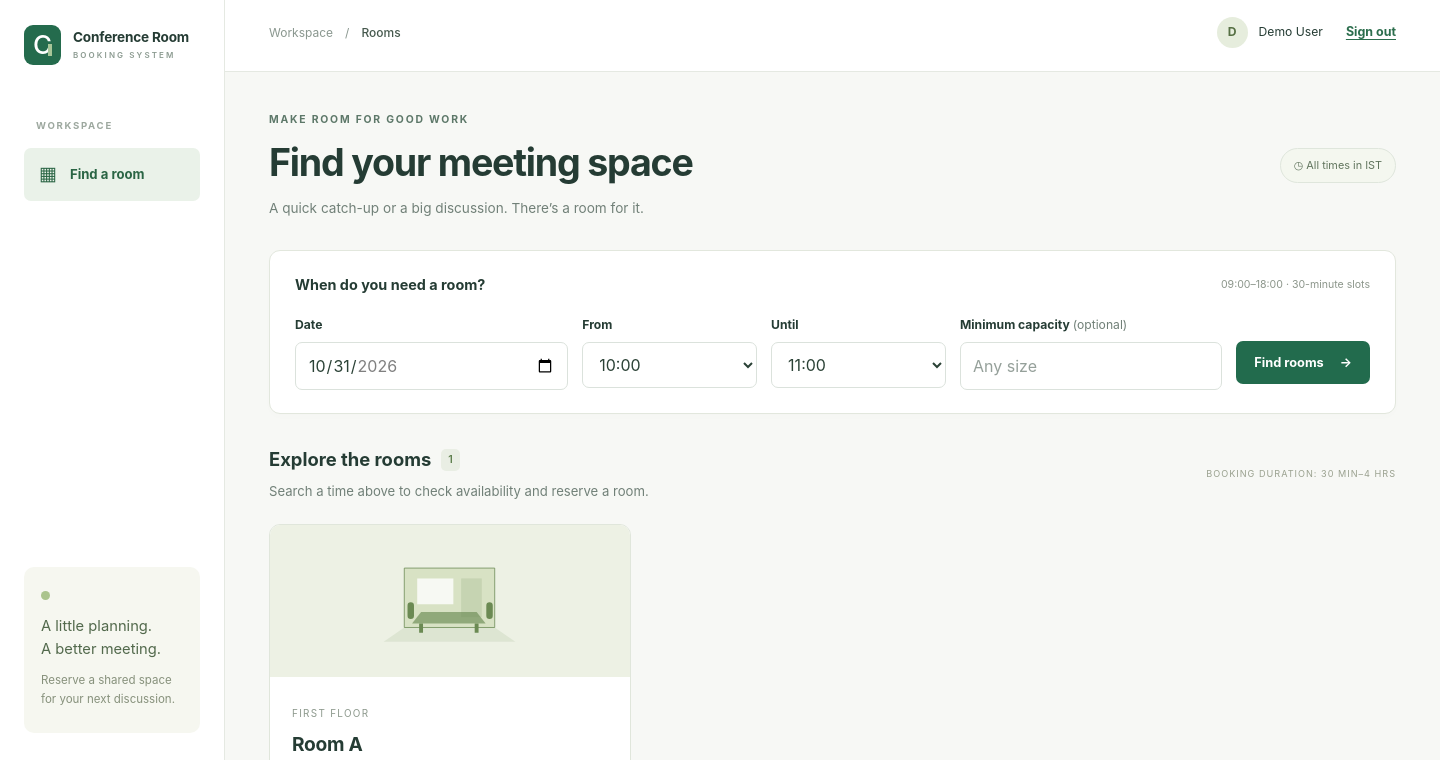
it: TC01 / TC02 room listing and search › invalidates availability and selection when search criteria change
The width and height of the screenshot is (1440, 760).
Expected: the heading "Room A" is shown, [292,732,362,756]
Click the button "Find rooms →" at (1303, 362), box [1236,341,1370,384]
(page scrolled)
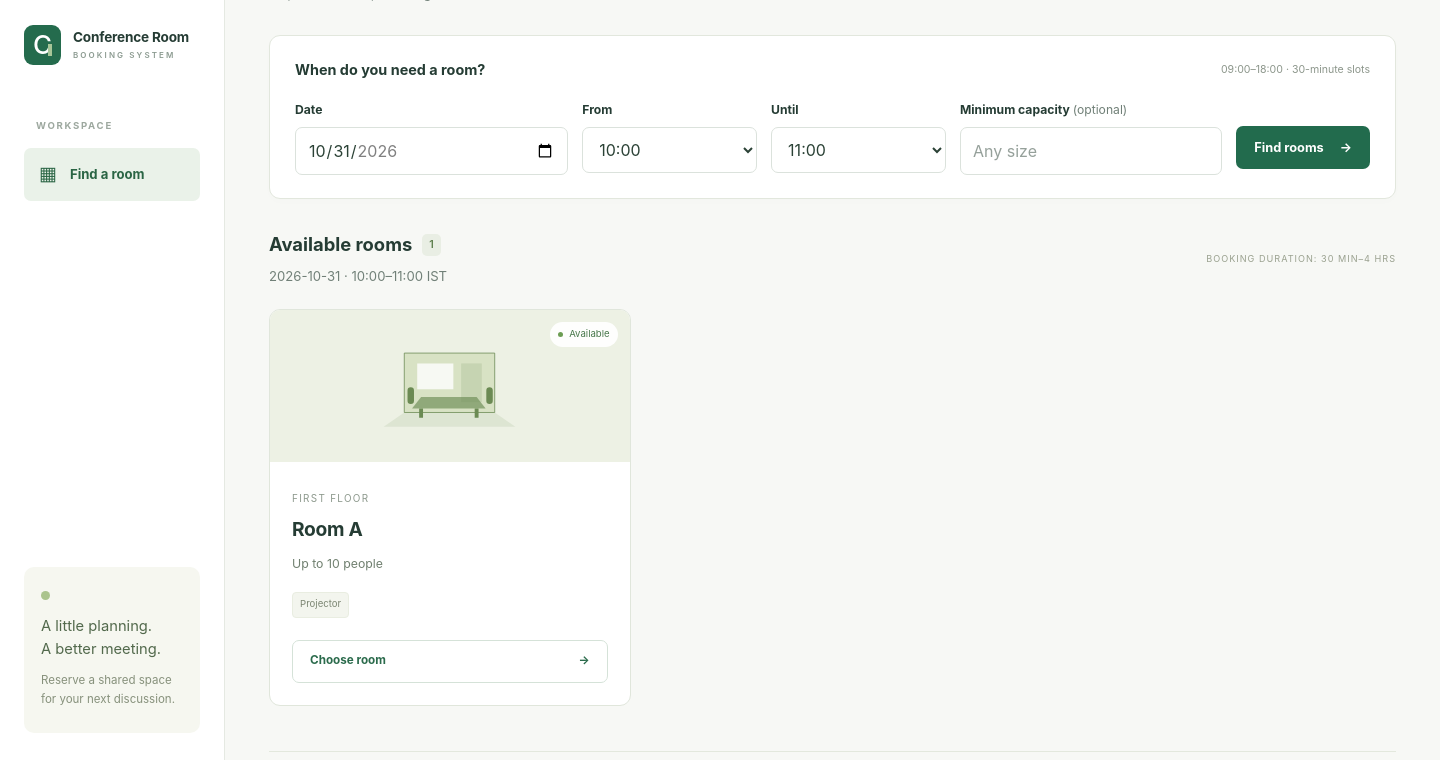
Now the heading "Available rooms 1" is shown, box [269,231,447,259]
Click the button "Choose room →" at (348, 660), box [292,640,608,682]
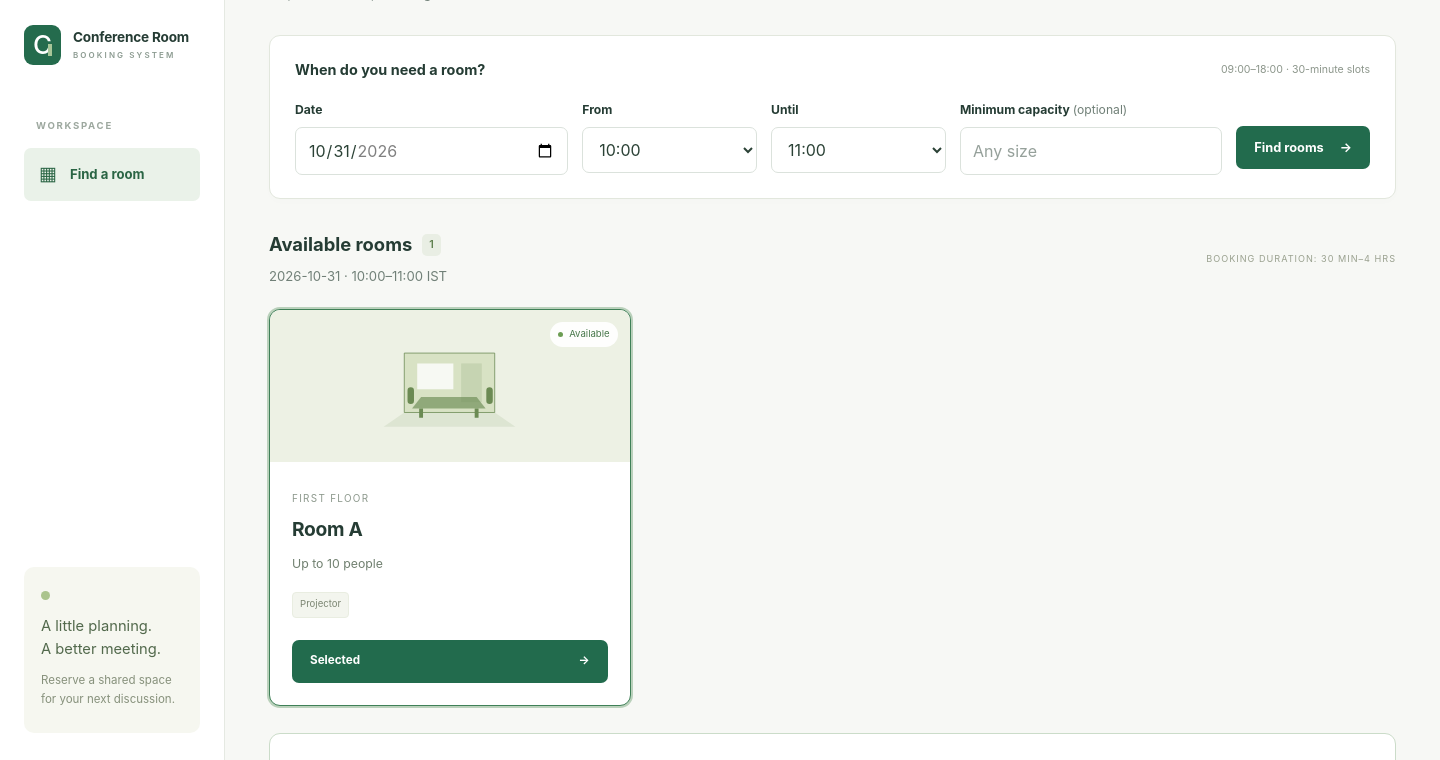
Select "11:00" in the dropdown labelled "From" at (670, 150), box [582,127,757,173]
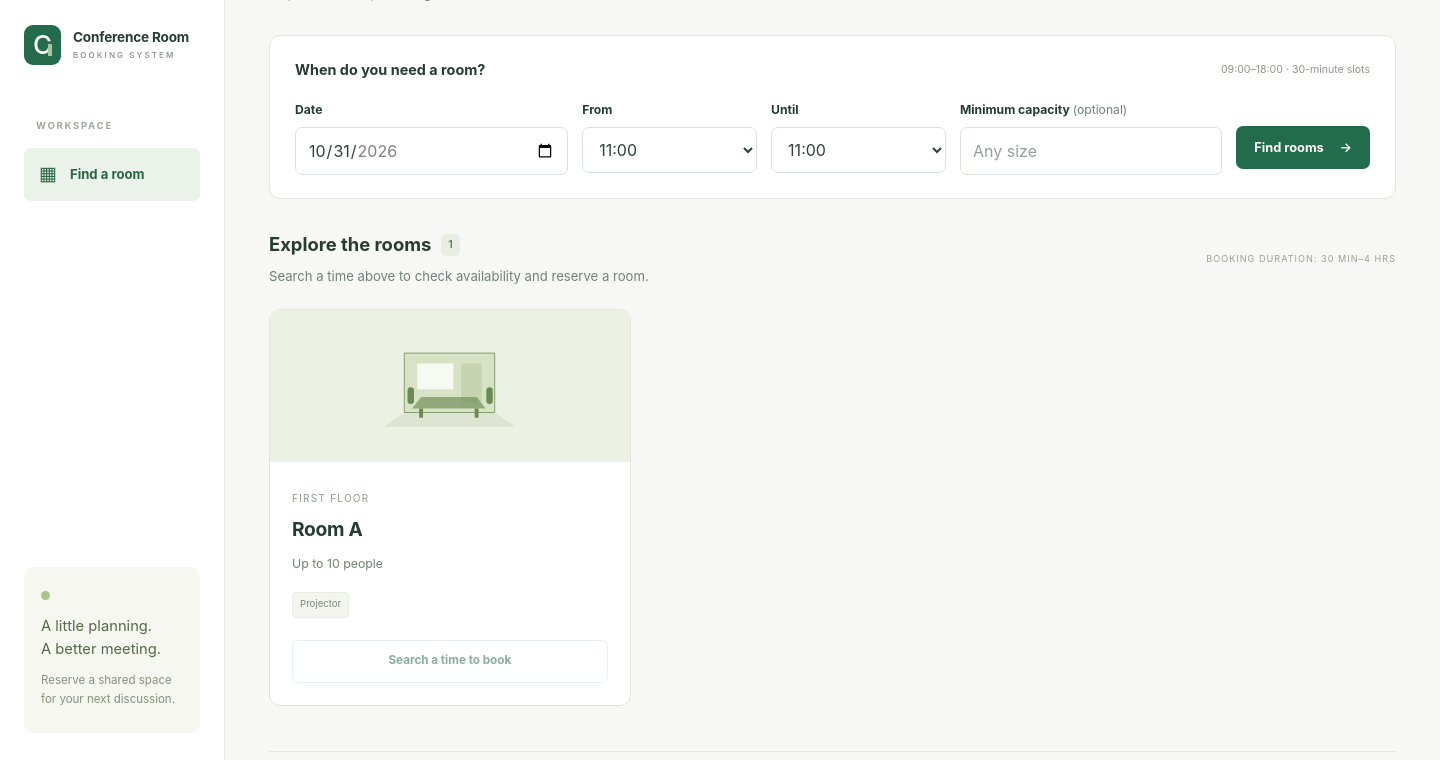
Now the button "Search a time to book" is disabled, box [292,640,608,682]
